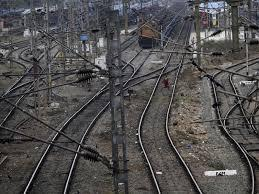track: (22, 18, 194, 194), (137, 18, 204, 194), (209, 56, 259, 193)
